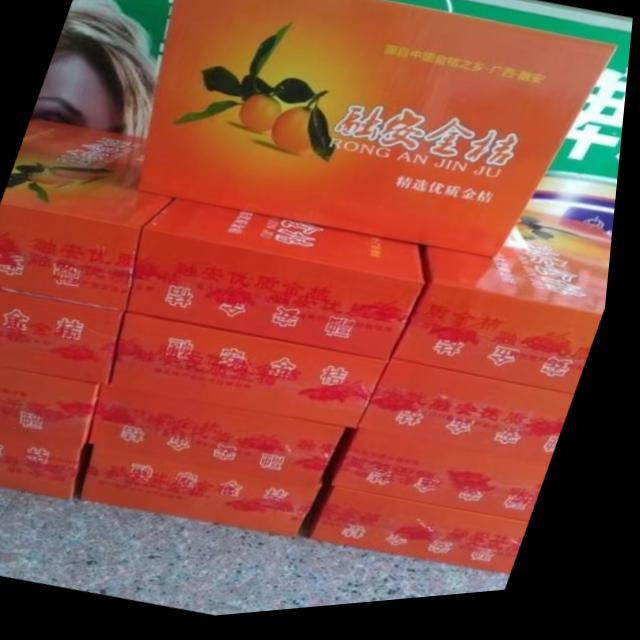box: (141, 0, 619, 267), (132, 201, 430, 368), (398, 219, 618, 405), (0, 118, 178, 313), (117, 313, 395, 436), (97, 384, 354, 492), (320, 476, 539, 584), (365, 364, 579, 474), (89, 447, 331, 544), (336, 434, 558, 532), (0, 288, 134, 386), (0, 365, 109, 451), (0, 432, 103, 500)
